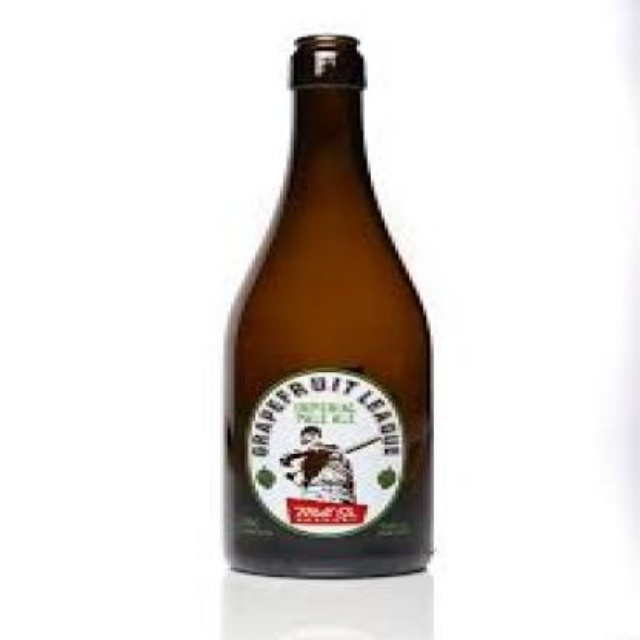trash: (226, 35, 431, 575)
